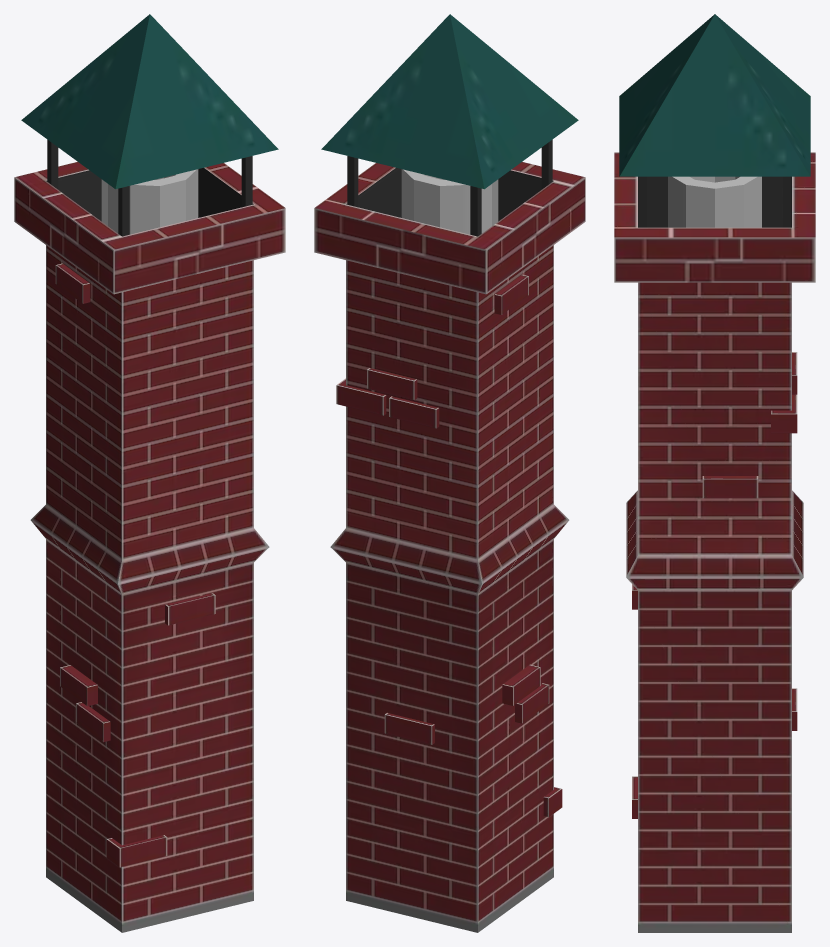
The model's file is 1aFJU-Pqpn8.glb.
The picture shows the model from 3 angles, left to right: view 1: azimuth 30°, elevation 25°; view 2: azimuth 150°, elevation 25°; view 3: azimuth 270°, elevation 25°; orthographic projection.
Parts seen in each view (by area): view 1: Chimney_2; view 2: Chimney_2; view 3: Chimney_2.
Part boxes in pixels (<box>): Chimney_2: <box>14,14,285,932</box>; Chimney_2: <box>314,14,585,932</box>; Chimney_2: <box>614,14,815,932</box>.
Bounding box in the file's own units: 0.2058 × 1 × 0.2058.
1 material, 1 textured.
